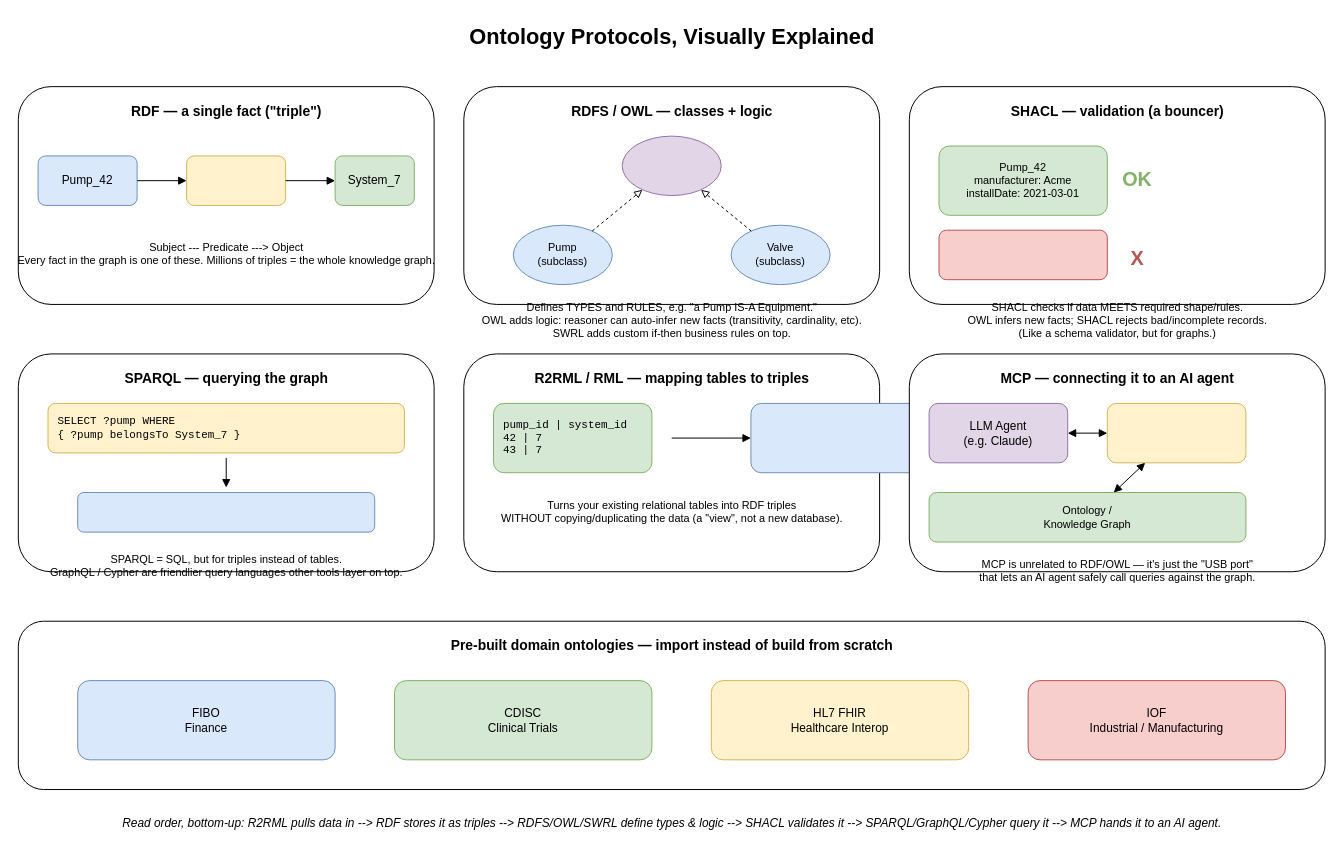
Image size: 1342x865. Some labels were removed from this diagram. The centre of each missing label's shape, as x and y in pixels:
"belongsTo" belongs at [236,180].
"Equipment (class)" belongs at [671,165].
"MCP (standard tool protocol)" belongs at [1176,432].
"Pump_42 belongsTo System_7 Pump_43 belongsTo System_7" belongs at [834,437].
"Pump_43 (missing manufacturer)" belongs at [1022,254].
"Result: Pump_42, Pump_57, Pump_61" belongs at [226,512].
